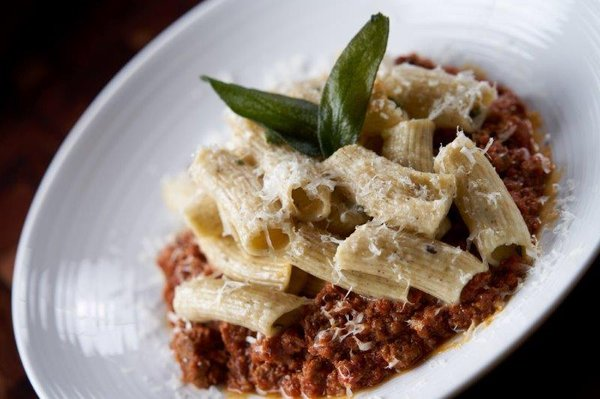sushi: (10, 2, 591, 398)
